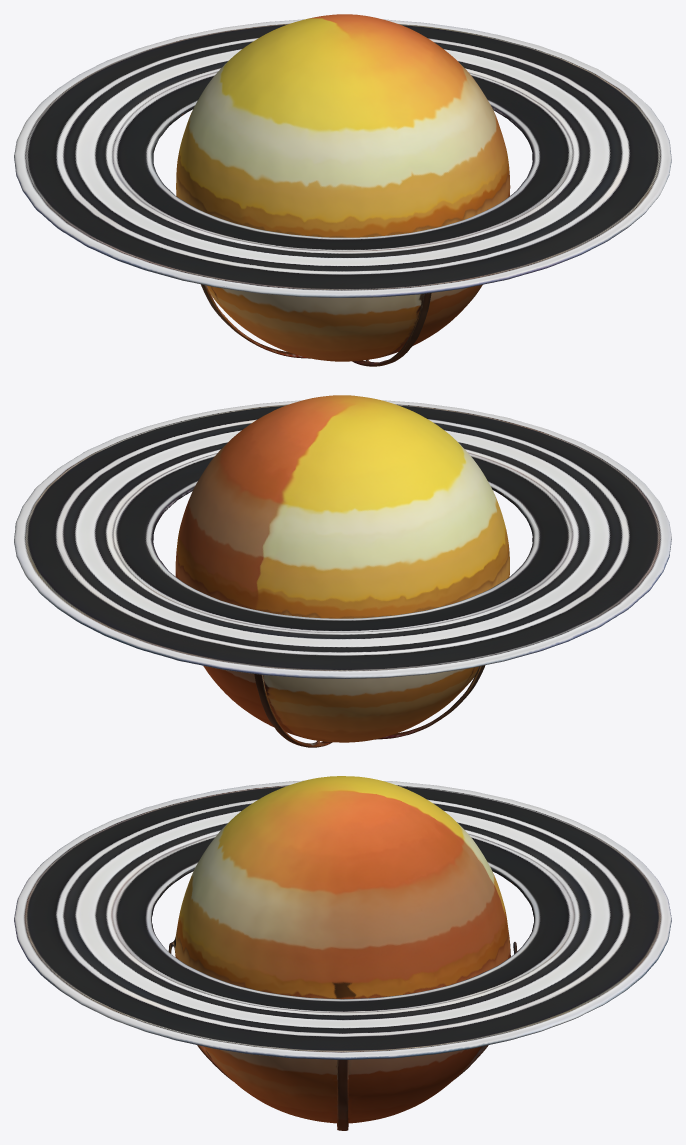
Rendered from Simple ice planet.fbx.
3 renders of one model, top to bottom at view 1: azimuth 30°, elevation 25°; view 2: azimuth 150°, elevation 25°; view 3: azimuth 270°, elevation 25°, orthographic.
Visible parts, largest first — view 1: Simple_planet_with_rings; view 2: Simple_planet_with_rings; view 3: Simple_planet_with_rings.
Boxes of the visible parts, x1,y1,x2,y2 form: Simple_planet_with_rings: [14, 14, 671, 366]; Simple_planet_with_rings: [14, 395, 671, 747]; Simple_planet_with_rings: [14, 776, 671, 1130].
Bounding box in the file's own units: 190 × 103 × 190.
